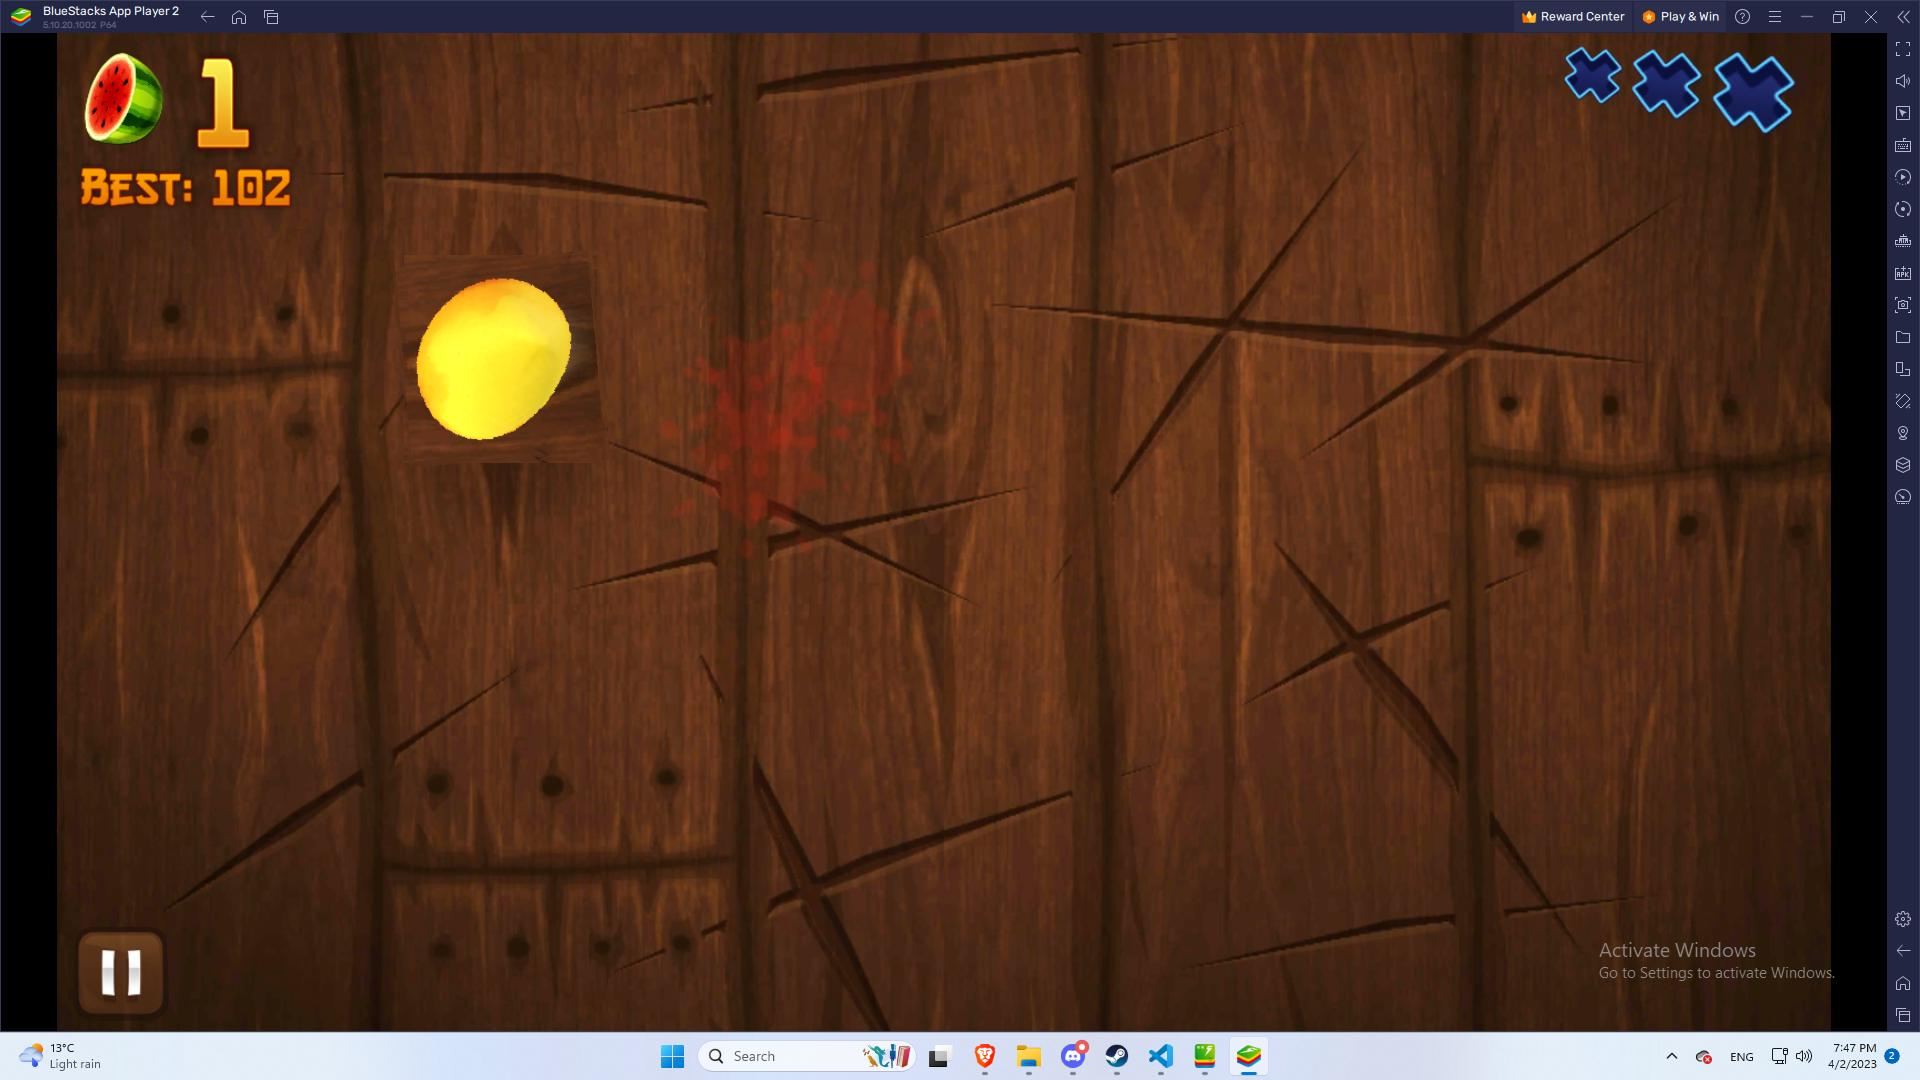fruit: (397, 255, 605, 464)
